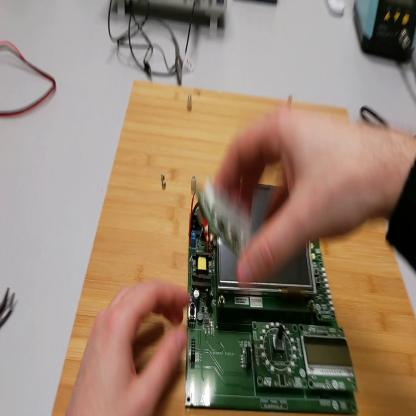hand: (213, 104, 383, 281), (66, 276, 191, 415)
low voltage board: (184, 183, 362, 416)
oscilloscope: (119, 3, 227, 32)
oscilloscope probe tip: (175, 38, 185, 84)
pliers: (1, 286, 15, 325)
welder station: (354, 1, 416, 63)
working area: (53, 68, 416, 416)
